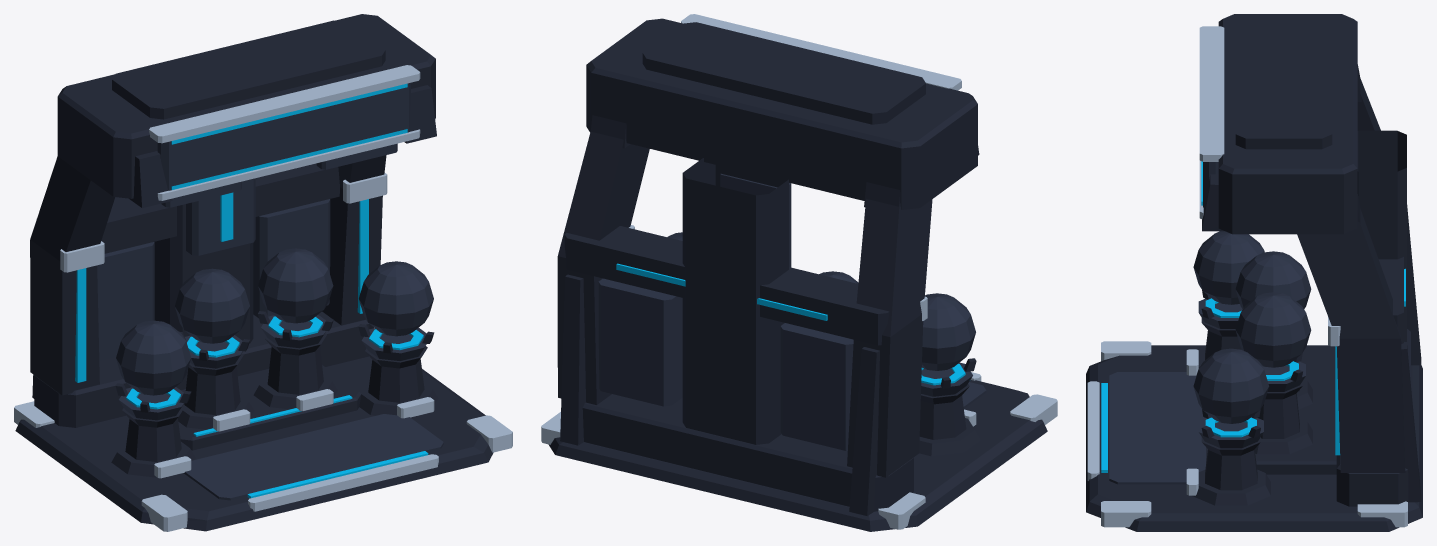
File: SM_Hub_CustomizeKiosk_01.obj
3 renders of one model, left to right at view 1: azimuth 30°, elevation 25°; view 2: azimuth 150°, elevation 25°; view 3: azimuth 270°, elevation 25°, orthographic. The views are drawn at different scales.
Parts seen in each view (by area): view 1: GEO_CustomizeKiosk_Frame, GEO_CustomizeKiosk_Base, GEO_CustomizeKiosk_SecondaryPanels, GEO_CustomizeKiosk_Trim, GEO_CustomizeKiosk_DisplayHeader, GEO_CustomizeKiosk_CyanAccents, GEO_CustomizeKiosk_PreviewSphere_03, GEO_CustomizeKiosk_PreviewSphere_02, GEO_CustomizeKiosk_PreviewSphere_04, GEO_CustomizeKiosk_PreviewSphere_01, GEO_CustomizeKiosk_DisplayPedestal_03, GEO_CustomizeKiosk_DisplayPedestal_01 (+2 smaller); view 2: GEO_CustomizeKiosk_Frame, GEO_CustomizeKiosk_Base, GEO_CustomizeKiosk_SecondaryPanels, GEO_CustomizeKiosk_Trim, GEO_CustomizeKiosk_PreviewSphere_01, GEO_CustomizeKiosk_DisplayPedestal_01, GEO_CustomizeKiosk_CyanAccents; view 3: GEO_CustomizeKiosk_Frame, GEO_CustomizeKiosk_Base, GEO_CustomizeKiosk_SecondaryPanels, GEO_CustomizeKiosk_Trim, GEO_CustomizeKiosk_PreviewSphere_04, GEO_CustomizeKiosk_PreviewSphere_03, GEO_CustomizeKiosk_DisplayPedestal_04, GEO_CustomizeKiosk_PreviewSphere_01, GEO_CustomizeKiosk_DisplayPedestal_03, GEO_CustomizeKiosk_PreviewSphere_02, GEO_CustomizeKiosk_CyanAccents, GEO_CustomizeKiosk_DisplayPedestal_01.
Part boxes in pixels (left/top/right/bottom): GEO_CustomizeKiosk_Frame: left=30, top=14, right=436, bottom=398; GEO_CustomizeKiosk_Base: left=15, top=311, right=493, bottom=531; GEO_CustomizeKiosk_SecondaryPanels: left=97, top=178, right=443, bottom=500; GEO_CustomizeKiosk_Trim: left=14, top=65, right=512, bottom=531; GEO_CustomizeKiosk_DisplayHeader: left=157, top=82, right=410, bottom=207; GEO_CustomizeKiosk_CyanAccents: left=75, top=83, right=428, bottom=498; GEO_CustomizeKiosk_PreviewSphere_03: left=258, top=248, right=333, bottom=323; GEO_CustomizeKiosk_PreviewSphere_02: left=174, top=268, right=249, bottom=343; GEO_CustomizeKiosk_PreviewSphere_04: left=359, top=261, right=433, bottom=336; GEO_CustomizeKiosk_PreviewSphere_01: left=116, top=320, right=190, bottom=395; GEO_CustomizeKiosk_DisplayPedestal_03: left=253, top=311, right=337, bottom=409; GEO_CustomizeKiosk_DisplayPedestal_01: left=111, top=383, right=195, bottom=477; GEO_CustomizeKiosk_Frame: left=557, top=18, right=979, bottom=515; GEO_CustomizeKiosk_Base: left=548, top=380, right=1047, bottom=531; GEO_CustomizeKiosk_SecondaryPanels: left=598, top=173, right=986, bottom=450; GEO_CustomizeKiosk_Trim: left=541, top=14, right=1057, bottom=529; GEO_CustomizeKiosk_PreviewSphere_01: left=922, top=293, right=975, bottom=370; GEO_CustomizeKiosk_DisplayPedestal_01: left=919, top=358, right=980, bottom=456; GEO_CustomizeKiosk_CyanAccents: left=616, top=263, right=965, bottom=385; GEO_CustomizeKiosk_Frame: left=1202, top=14, right=1421, bottom=502; GEO_CustomizeKiosk_Base: left=1086, top=329, right=1422, bottom=531; GEO_CustomizeKiosk_SecondaryPanels: left=1109, top=298, right=1305, bottom=484; GEO_CustomizeKiosk_Trim: left=1087, top=26, right=1407, bottom=527; GEO_CustomizeKiosk_PreviewSphere_04: left=1193, top=348, right=1269, bottom=423; GEO_CustomizeKiosk_PreviewSphere_03: left=1235, top=292, right=1311, bottom=367; GEO_CustomizeKiosk_DisplayPedestal_04: left=1192, top=409, right=1270, bottom=505; GEO_CustomizeKiosk_PreviewSphere_01: left=1193, top=231, right=1264, bottom=304; GEO_CustomizeKiosk_DisplayPedestal_03: left=1254, top=353, right=1312, bottom=454; GEO_CustomizeKiosk_PreviewSphere_02: left=1235, top=251, right=1311, bottom=309; GEO_CustomizeKiosk_CyanAccents: left=1101, top=161, right=1405, bottom=472; GEO_CustomizeKiosk_DisplayPedestal_01: left=1196, top=290, right=1242, bottom=374.
Size of the model in its own units: 10 by 9.5 by 8.
4 materials, 4 textured.
